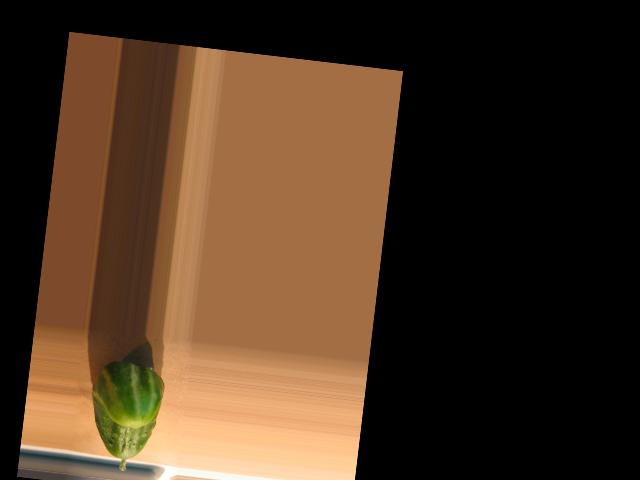cucumber: (84, 358, 167, 475)
